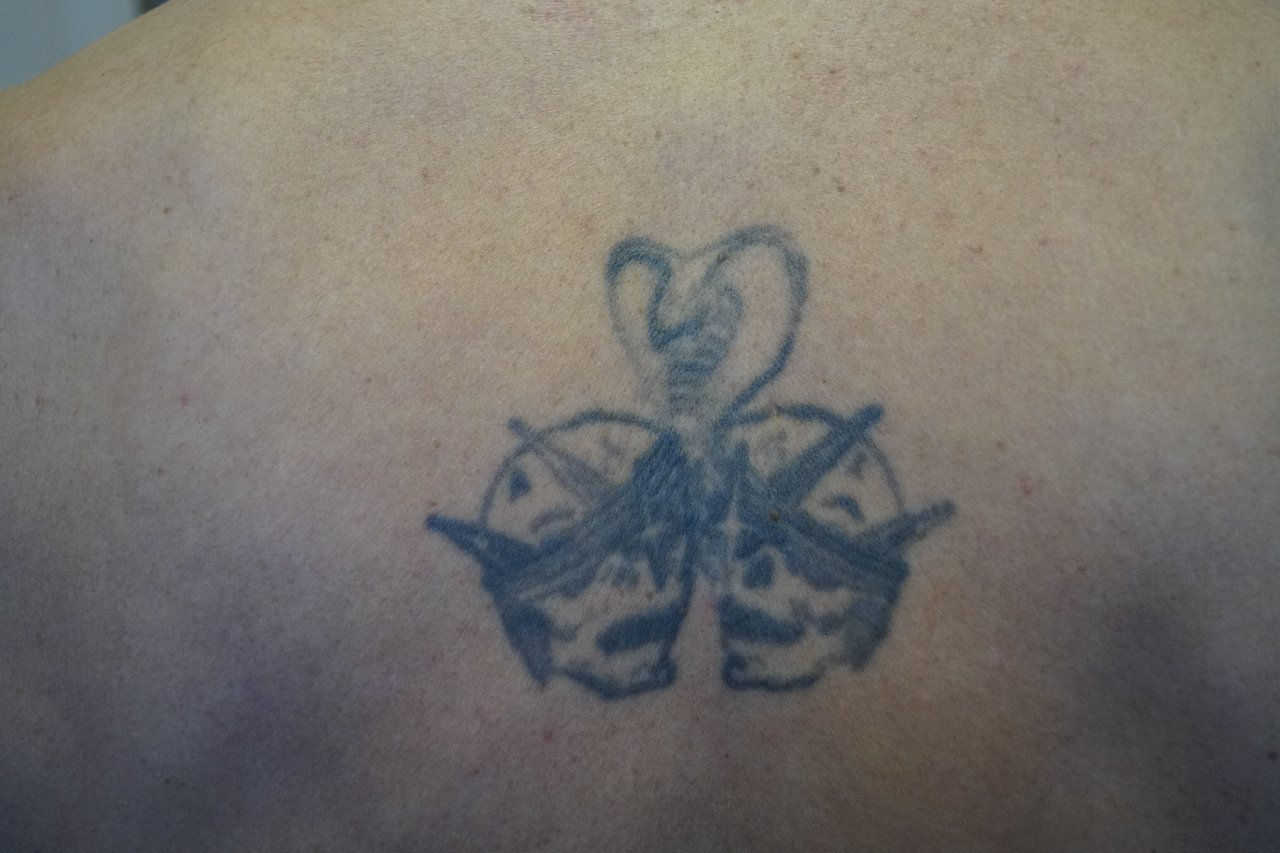tatu7_zmeya: (408, 210, 966, 761)
